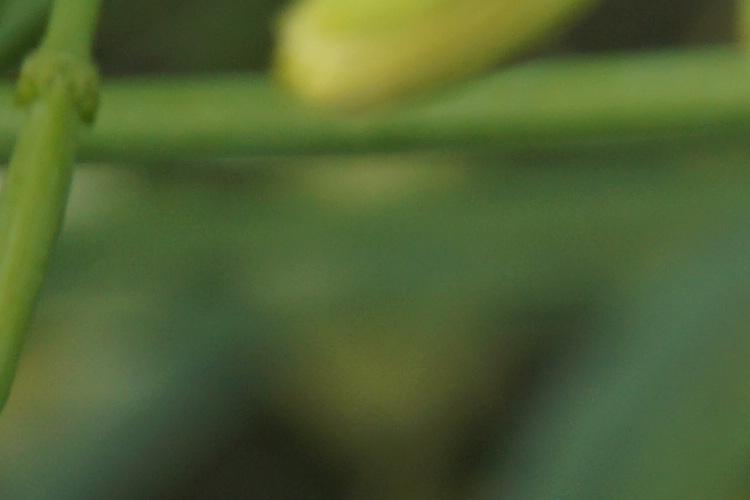pod: (1, 52, 97, 419)
